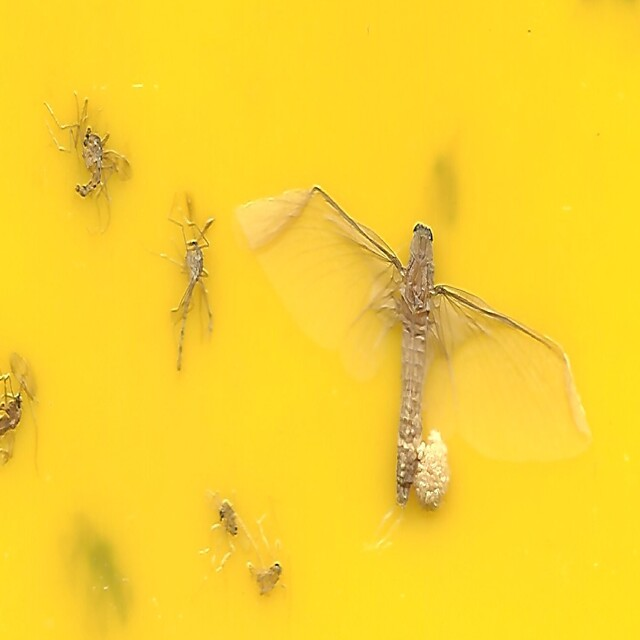Ephemeroptera: (239, 185, 593, 503)
Nematocera: (47, 93, 132, 234), (164, 204, 214, 366), (212, 491, 240, 547)
